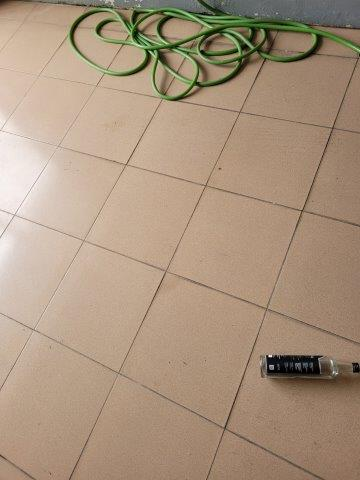botolkaca: (257, 354, 360, 378)
